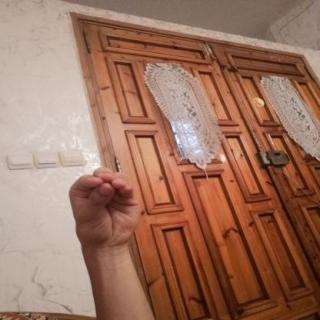HA: (57, 161, 148, 258)
